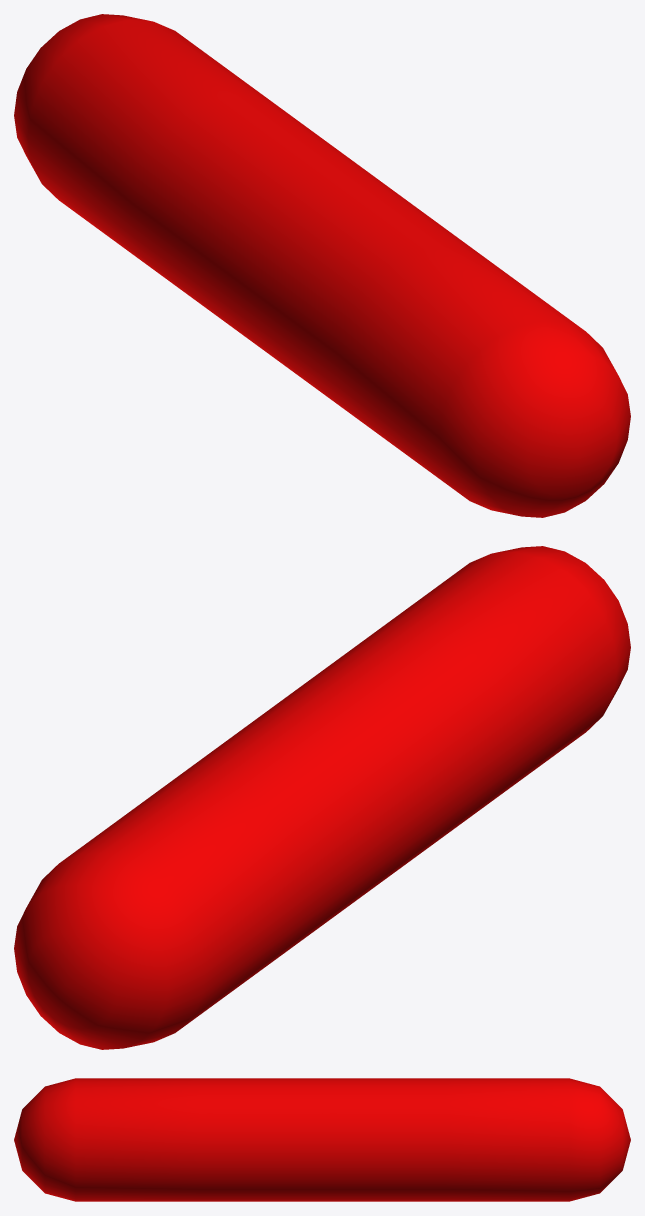
Rendered from Enemy_Blast_Bullet.fbx.
3 views of the same model, one above another, from view 1: azimuth 30°, elevation 25°; view 2: azimuth 150°, elevation 25°; view 3: azimuth 270°, elevation 25° (orthographic). The views are drawn at different scales.
Parts seen in each view (by area): view 1: Enemy_Blast_Bullet; view 2: Enemy_Blast_Bullet; view 3: Enemy_Blast_Bullet.
Boxes of the visible parts, bbox=[...] form: Enemy_Blast_Bullet: bbox=[14, 14, 630, 517]; Enemy_Blast_Bullet: bbox=[14, 546, 630, 1049]; Enemy_Blast_Bullet: bbox=[14, 1078, 630, 1201].
Size of the model in its own units: 6 by 5.94 by 30.
